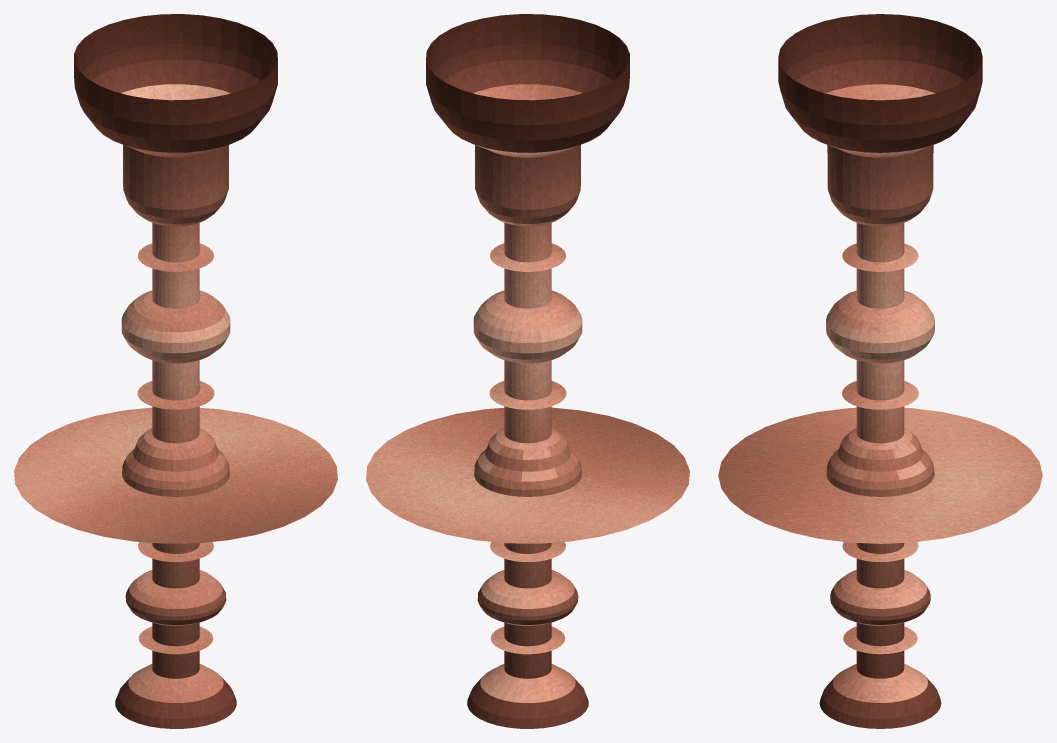
The model's file is copper_lamp.fbx.
3 renders of one model, left to right at view 1: azimuth 30°, elevation 25°; view 2: azimuth 150°, elevation 25°; view 3: azimuth 270°, elevation 25°, orthographic.
Visible parts, largest first — view 1: Cone; view 2: Cone; view 3: Cone.
Part boxes in pixels (x1,y1,x2,y2): Cone: (14, 14, 337, 728); Cone: (366, 14, 689, 728); Cone: (718, 14, 1042, 728).
Size of the model in its own units: 532 by 1169 by 532.
Materials: 1 (1 with a texture image).
